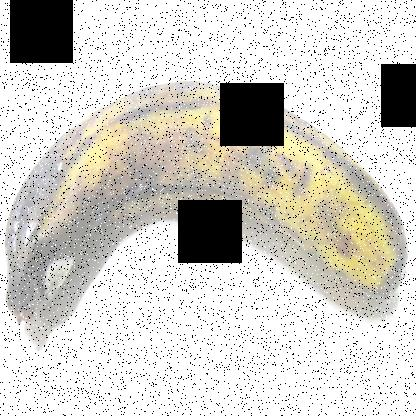overripe: (0, 60, 415, 363)
rotten: (0, 127, 121, 334)
